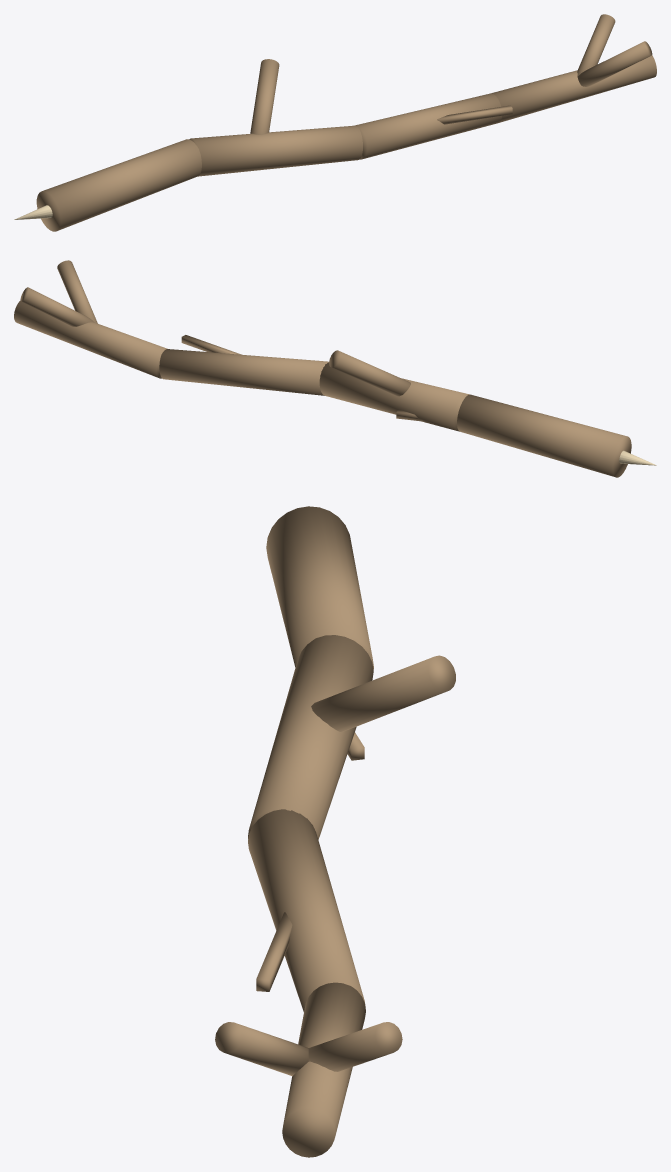
The model's file is stick_1.glb.
3 views of the same model, one above another, from view 1: azimuth 30°, elevation 25°; view 2: azimuth 150°, elevation 25°; view 3: azimuth 270°, elevation 25° (orthographic). The views are drawn at different scales.
Visible parts, largest first — view 1: Main_Shaft, Side_Branch, Fork_B, Fork_A, Bark_Ridge_2; view 2: Main_Shaft, Side_Branch, Fork_A, Fork_B, Bark_Ridge_2; view 3: Main_Shaft, Side_Branch, Fork_B, Fork_A, Bark_Ridge_2.
Part boxes in pixels (left/top/right/bottom): Main_Shaft: left=36, top=55, right=656, bottom=231; Side_Branch: left=250, top=59, right=279, bottom=134; Fork_B: left=577, top=41, right=652, bottom=86; Fork_A: left=577, top=14, right=615, bottom=76; Bark_Ridge_2: left=437, top=105, right=512, bottom=124; Main_Shaft: left=14, top=300, right=631, bottom=477; Side_Branch: left=329, top=350, right=410, bottom=396; Fork_A: left=20, top=287, right=94, bottom=326; Fork_B: left=57, top=260, right=97, bottom=323; Bark_Ridge_2: left=181, top=335, right=241, bottom=354; Main_Shaft: left=248, top=506, right=373, bottom=1157; Side_Branch: left=311, top=655, right=455, bottom=731; Fork_B: left=215, top=1022, right=308, bottom=1076; Fork_A: left=308, top=1022, right=402, bottom=1071; Bark_Ridge_2: left=256, top=912, right=292, bottom=991.
Bounding box in the file's own units: 0.5511 × 0.0774 × 0.0903.
